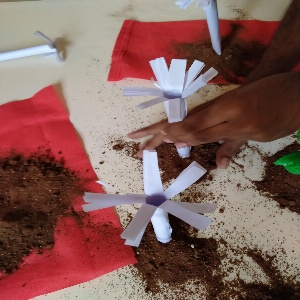weed: (84, 145, 218, 256), (126, 49, 222, 109), (175, 1, 234, 54), (1, 30, 76, 66)
